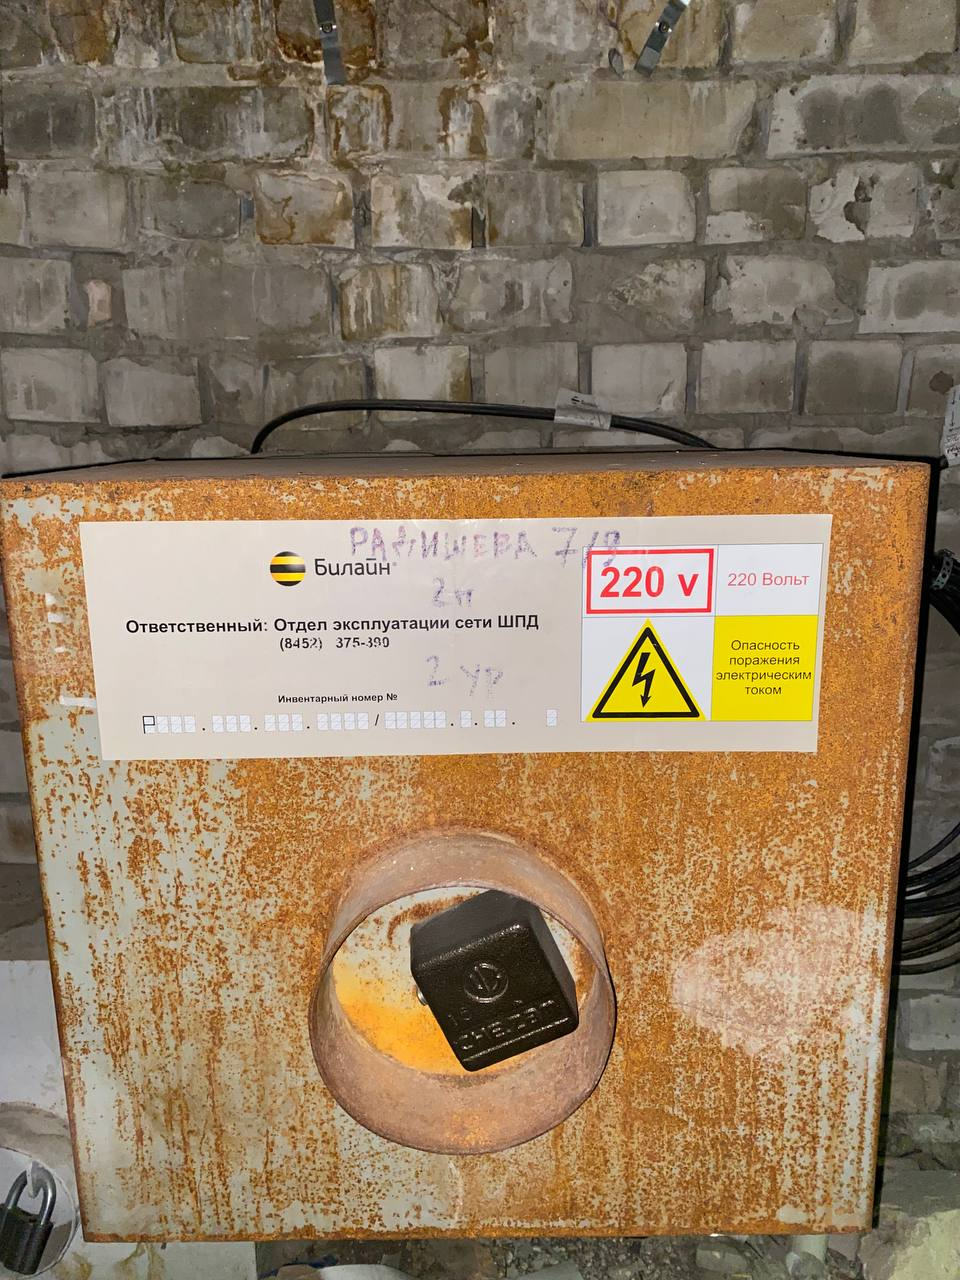shta-9: (7, 432, 942, 1251)
